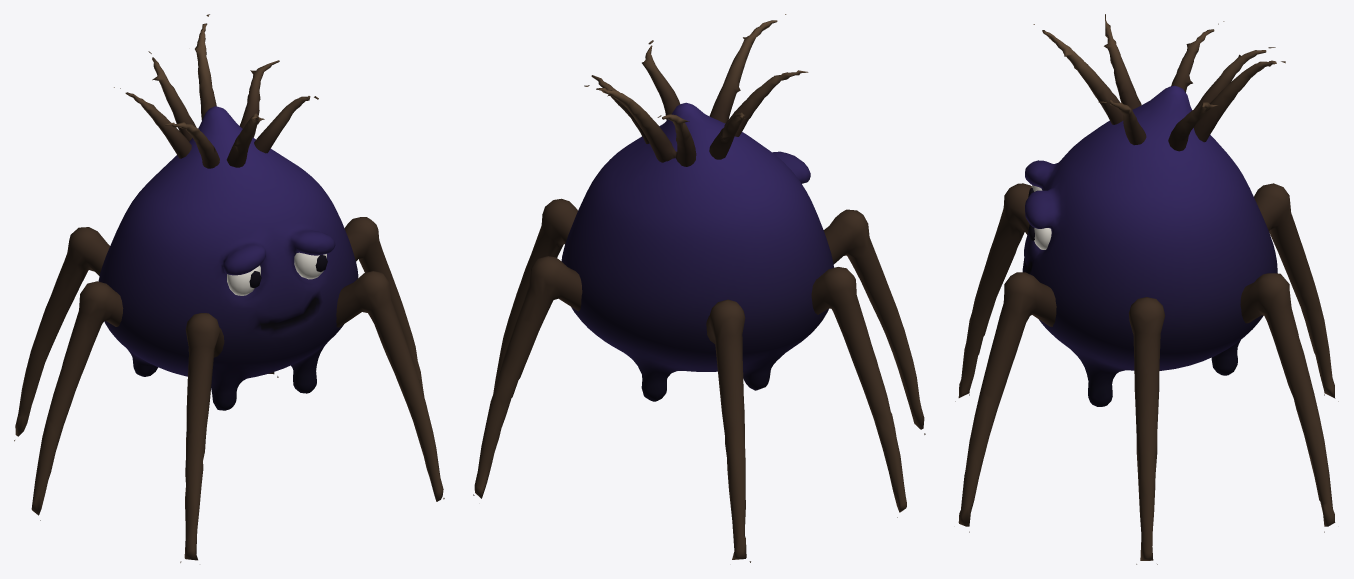
The model's file is ink_twig.glb.
3 renders of one model, left to right at view 1: azimuth 30°, elevation 25°; view 2: azimuth 150°, elevation 25°; view 3: azimuth 270°, elevation 25°, orthographic. The views are drawn at different scales.
Visible parts, largest first — view 1: twig_body, twig_leg_0, twig_leg_4, twig_leg_3, twig_leg_5, twig_leg_1; view 2: twig_body, twig_leg_2, twig_leg_4, twig_leg_5, twig_leg_3, twig_leg_1; view 3: twig_body, twig_leg_0, twig_leg_2, twig_leg_1, twig_leg_5, twig_leg_3.
Part boxes in pixels (x1=…): twig_body: x1=98, y1=14, x2=358, y2=410; twig_leg_0: x1=336, y1=271, x2=444, y2=501; twig_leg_4: x1=31, y1=281, x2=123, y2=520; twig_leg_3: x1=180, y1=313, x2=224, y2=562; twig_leg_5: x1=14, y1=227, x2=109, y2=441; twig_leg_1: x1=344, y1=217, x2=424, y2=396; twig_body: x1=561, y1=14, x2=834, y2=401; twig_leg_2: x1=473, y1=256, x2=582, y2=498; twig_leg_4: x1=811, y1=267, x2=906, y2=517; twig_leg_5: x1=706, y1=299, x2=750, y2=562; twig_leg_3: x1=823, y1=209, x2=925, y2=434; twig_leg_1: x1=493, y1=198, x2=577, y2=393; twig_body: x1=1022, y1=14, x2=1285, y2=406; twig_leg_0: x1=958, y1=272, x2=1056, y2=532; twig_leg_2: x1=1240, y1=273, x2=1335, y2=532; twig_leg_1: x1=1128, y1=297, x2=1165, y2=564; twig_leg_5: x1=1254, y1=183, x2=1338, y2=401; twig_leg_3: x1=955, y1=183, x2=1031, y2=401.
Size of the model in its own units: 1.25 by 1.2 by 0.991.
